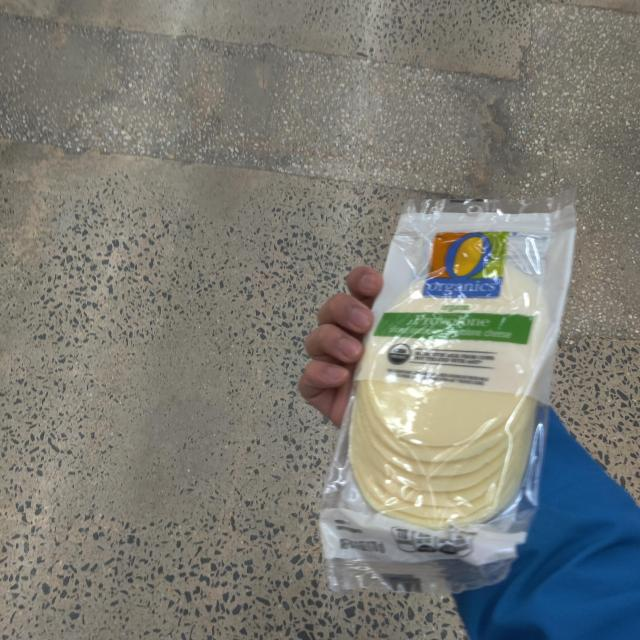Tofu: (348, 186, 574, 582)
